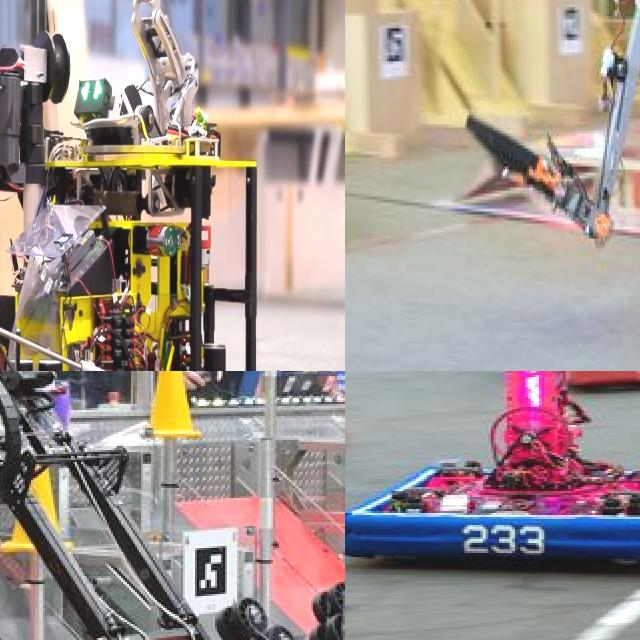FRC-Robots: (0, 0, 345, 371), (0, 371, 345, 640), (345, 371, 640, 584), (448, 0, 640, 327)
